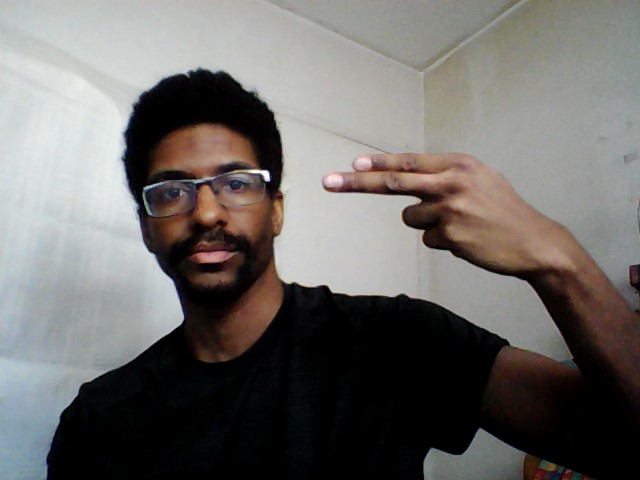h: (320, 146, 572, 278)
